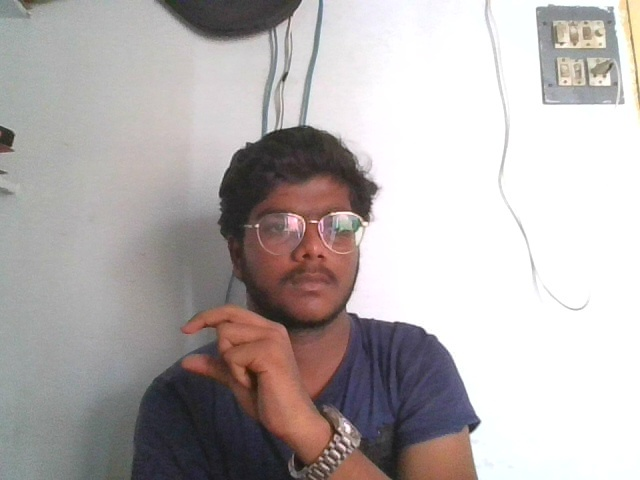No: (169, 303, 337, 431)
